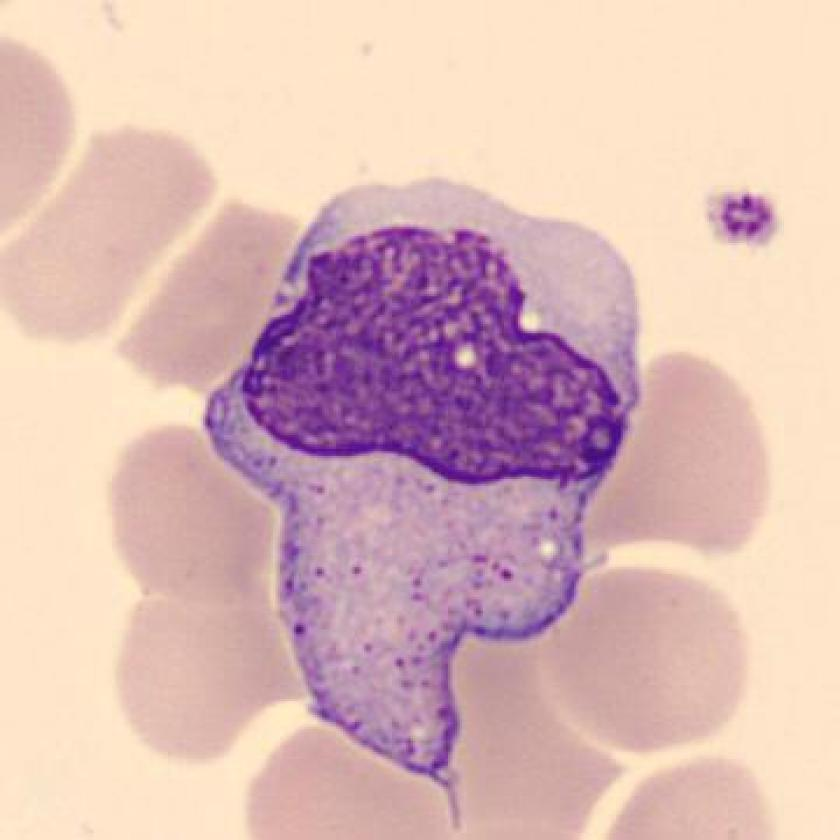monocyte: (197, 138, 659, 788)
